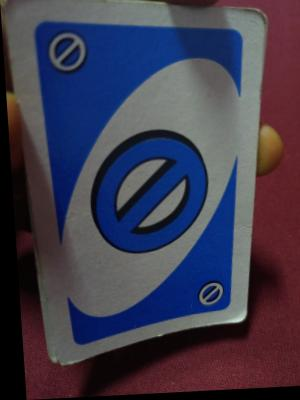blue: (31, 21, 236, 323)
skip: (43, 28, 91, 77), (189, 280, 223, 313)
